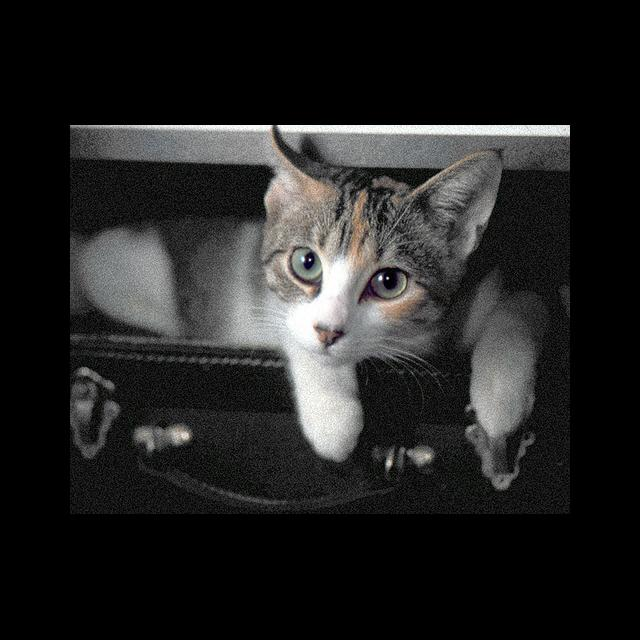animals: (268, 126, 496, 344)
